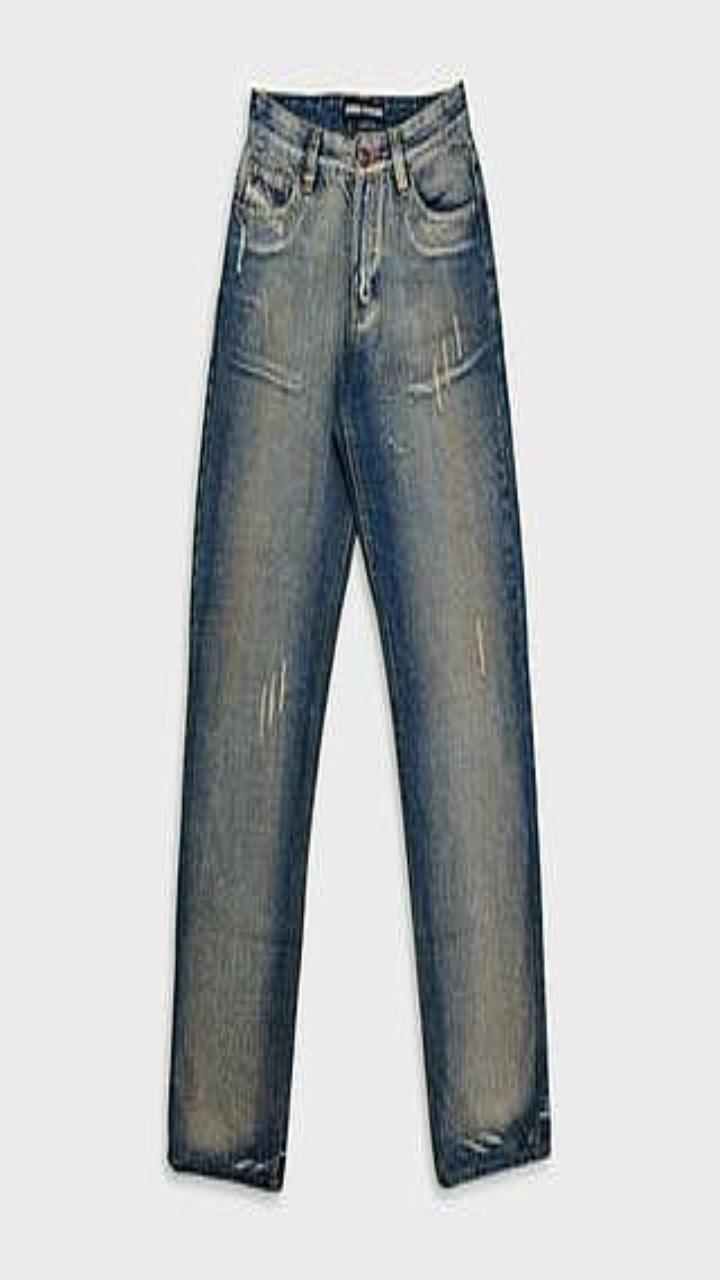Jeans: (168, 81, 549, 1189)
